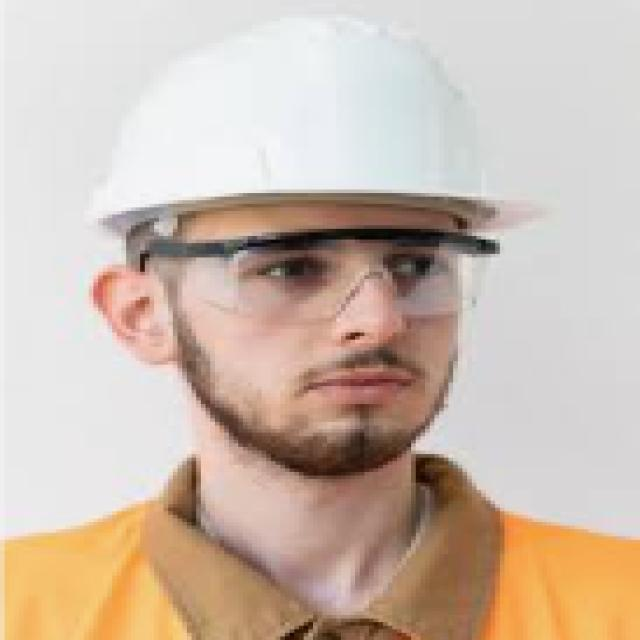glasses: (148, 231, 482, 322)
